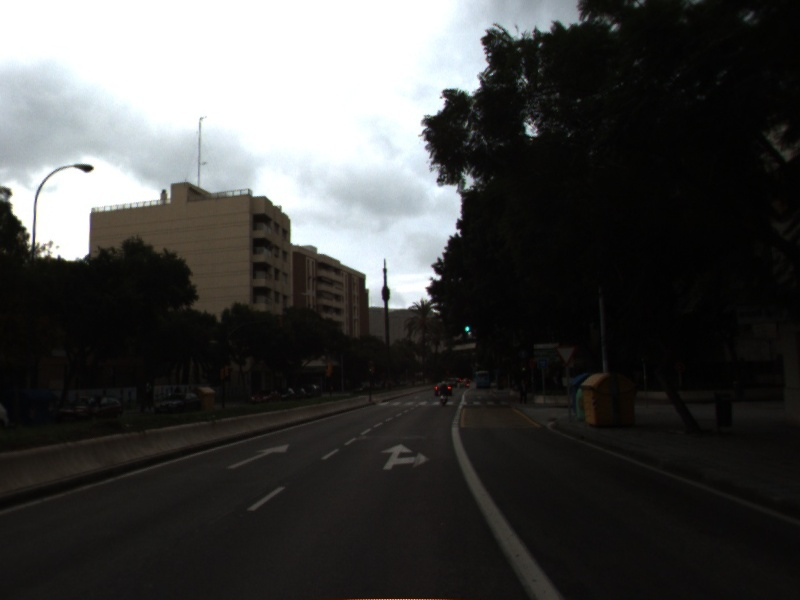STRAIGHT: (225, 442, 292, 471)
STRAIGHT_RIGHT: (378, 442, 433, 472)
